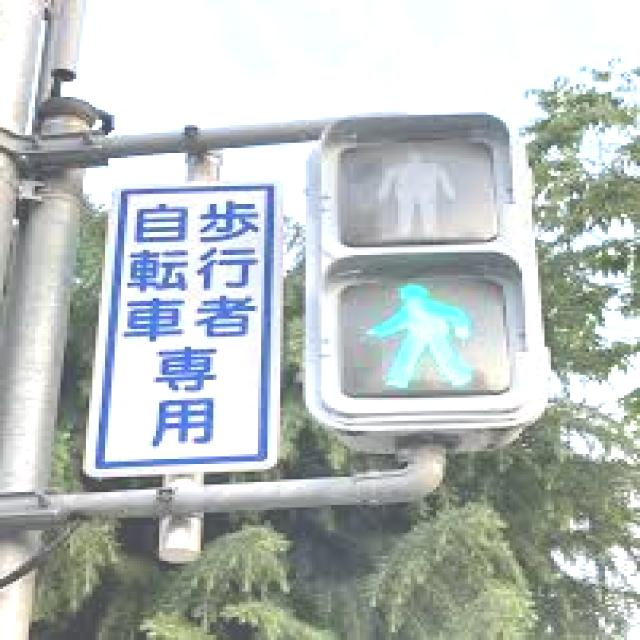trafficlight: (302, 120, 544, 428)
